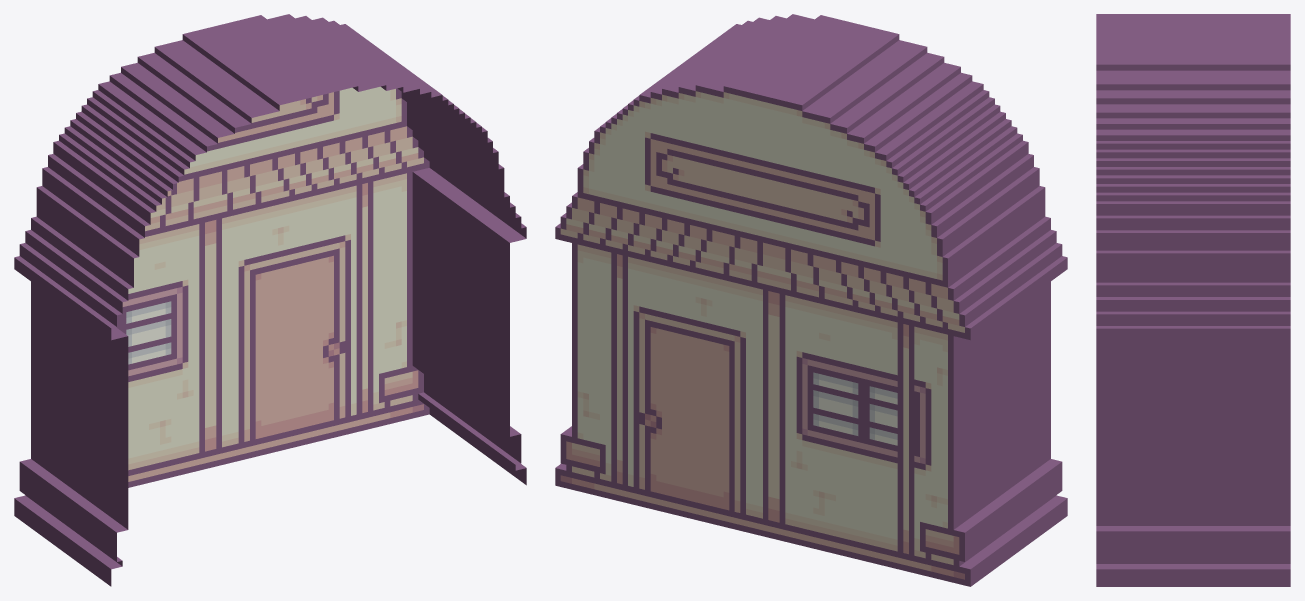
Rendered from Calico_Buildings_4.fbx.
3 views of the same model, side by side, from view 1: azimuth 30°, elevation 25°; view 2: azimuth 150°, elevation 25°; view 3: azimuth 270°, elevation 25° (orthographic).
Parts seen in each view (by area): view 1: Calico_Building_4; view 2: Calico_Building_4; view 3: Calico_Building_4.
Part boxes in pixels (<box>): Calico_Building_4: <box>14,14,526,586</box>; Calico_Building_4: <box>555,14,1067,586</box>; Calico_Building_4: <box>1096,14,1290,586</box>.
Size of the model in its own units: 188 by 463 by 469.
